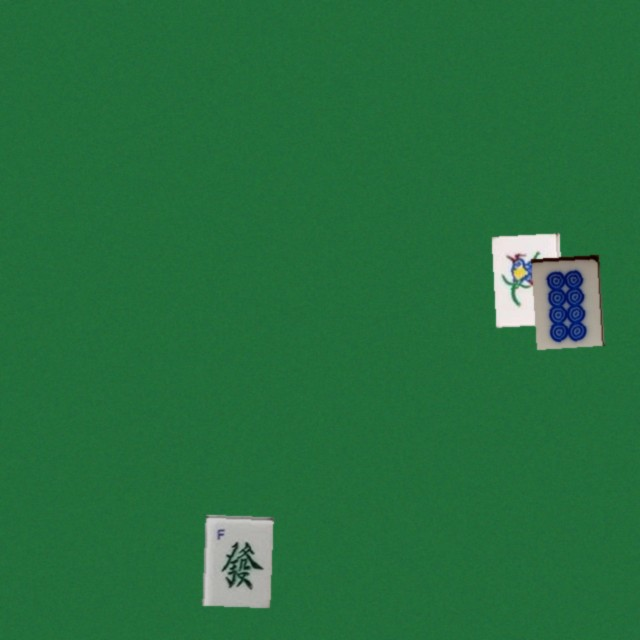tile: (491, 233, 559, 324), (531, 254, 599, 345), (202, 514, 270, 605)
